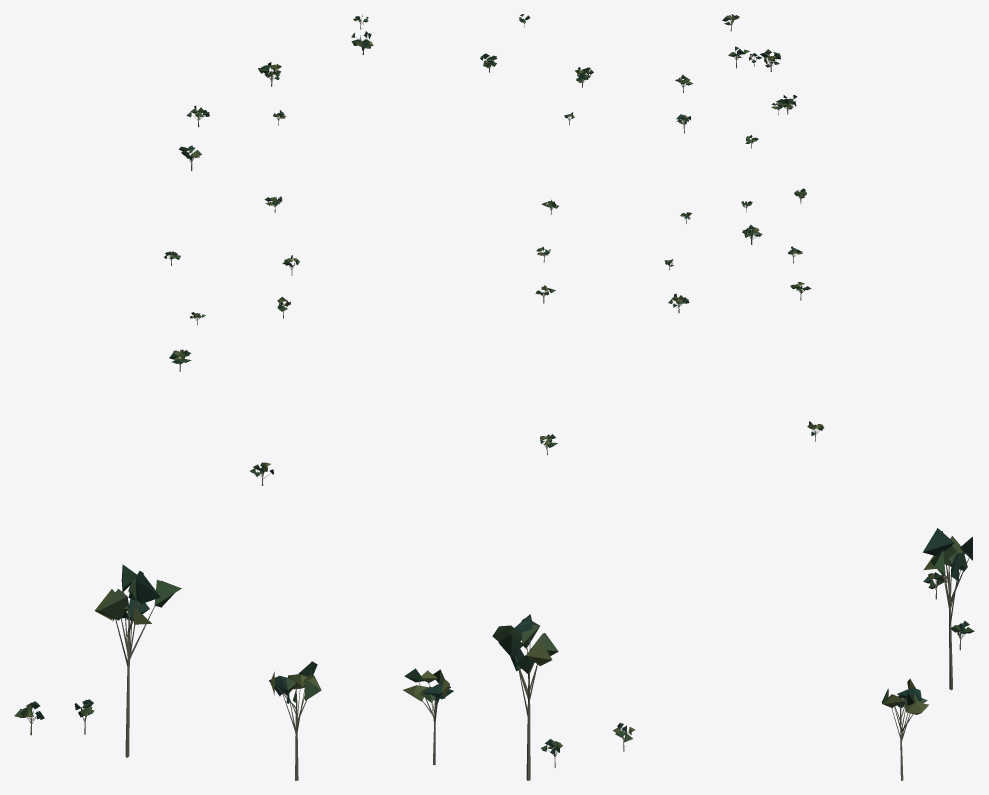
The model's file is forest_22_23.dae.
3 views of the same model, side by side, from view 1: azimuth 30°, elevation 25°; view 2: azimuth 150°, elevation 25°; view 3: azimuth 270°, elevation 25° (orthographic). The views are drawn at different scales.
Parts seen in each view (by area): view 1: Node; view 2: Node; view 3: Node.
Boxes of the visible parts, box(x1,y1,x2,y2) form: Node: box(14, 14, 373, 780); Node: box(403, 14, 693, 780); Node: box(722, 14, 974, 780).
Bounding box in the file's own units: 7.27 × 6.42 × 20.08.
